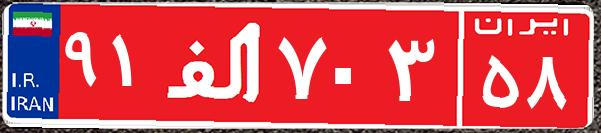0: (330, 28, 385, 110)
1: (110, 28, 158, 105)
3: (385, 28, 445, 110)
5: (475, 38, 525, 113)
7: (273, 28, 330, 110)
8: (525, 38, 570, 115)
9: (57, 26, 110, 107)
الف: (158, 15, 273, 115)
